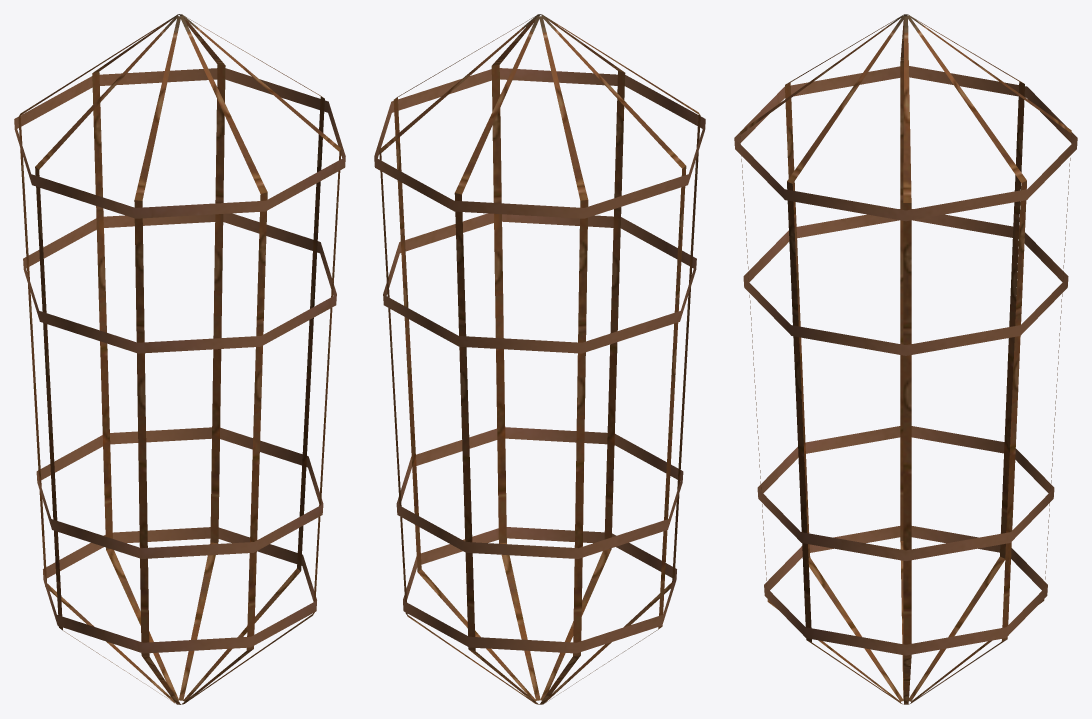
File: jfdx_sk21.FBX
3 views of the same model, side by side, from view 1: azimuth 30°, elevation 25°; view 2: azimuth 150°, elevation 25°; view 3: azimuth 270°, elevation 25° (orthographic).
Visible parts, largest first — view 1: jfdx_sk21; view 2: jfdx_sk21; view 3: jfdx_sk21.
Part boxes in pixels (box(x1,y1,x2,y2)): jfdx_sk21: box(14, 14, 345, 704); jfdx_sk21: box(374, 14, 705, 704); jfdx_sk21: box(734, 14, 1077, 704).
Size of the model in its own units: 1.08 by 2.39 by 1.08.
